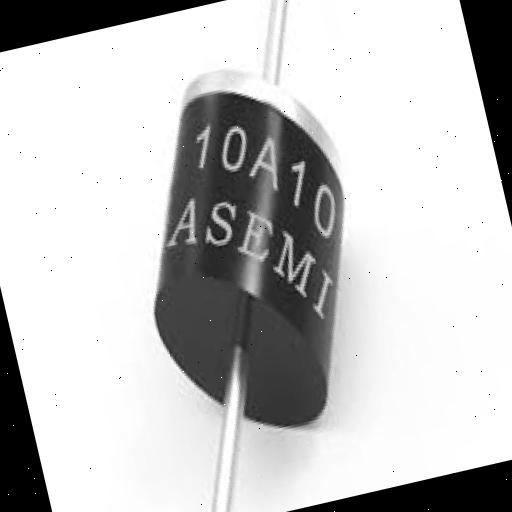DIODE: (72, 0, 476, 495)
